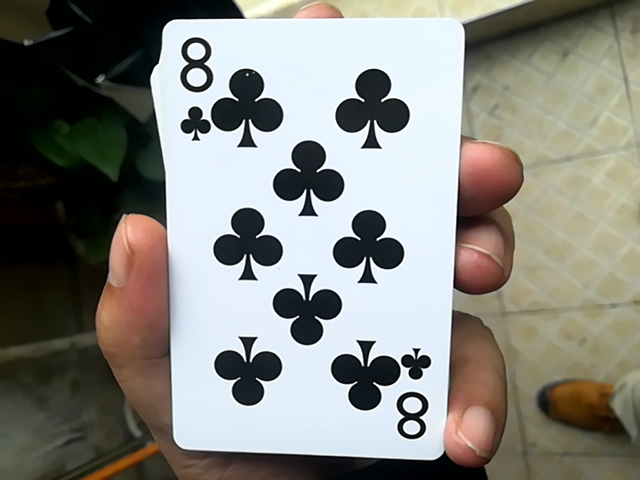mh 8: (144, 12, 456, 466)
